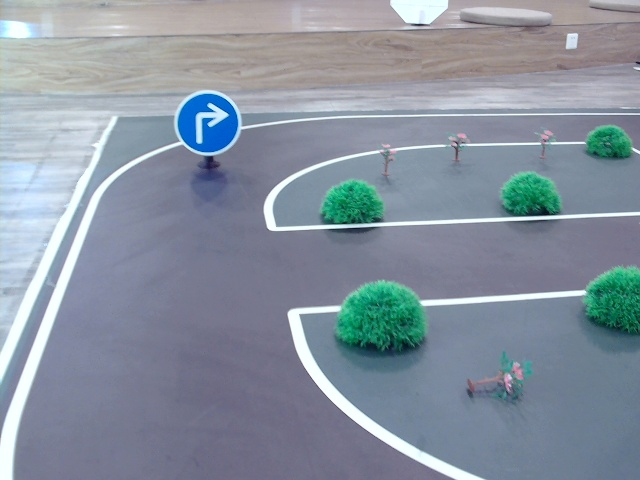turn_right: (191, 103, 225, 141)
